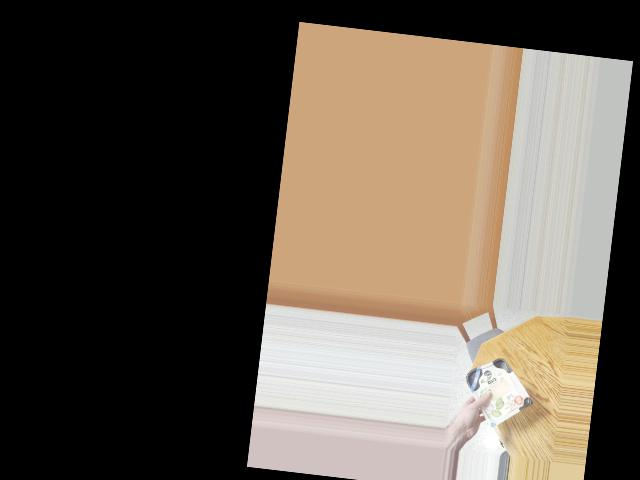cheese: (460, 354, 531, 420)
